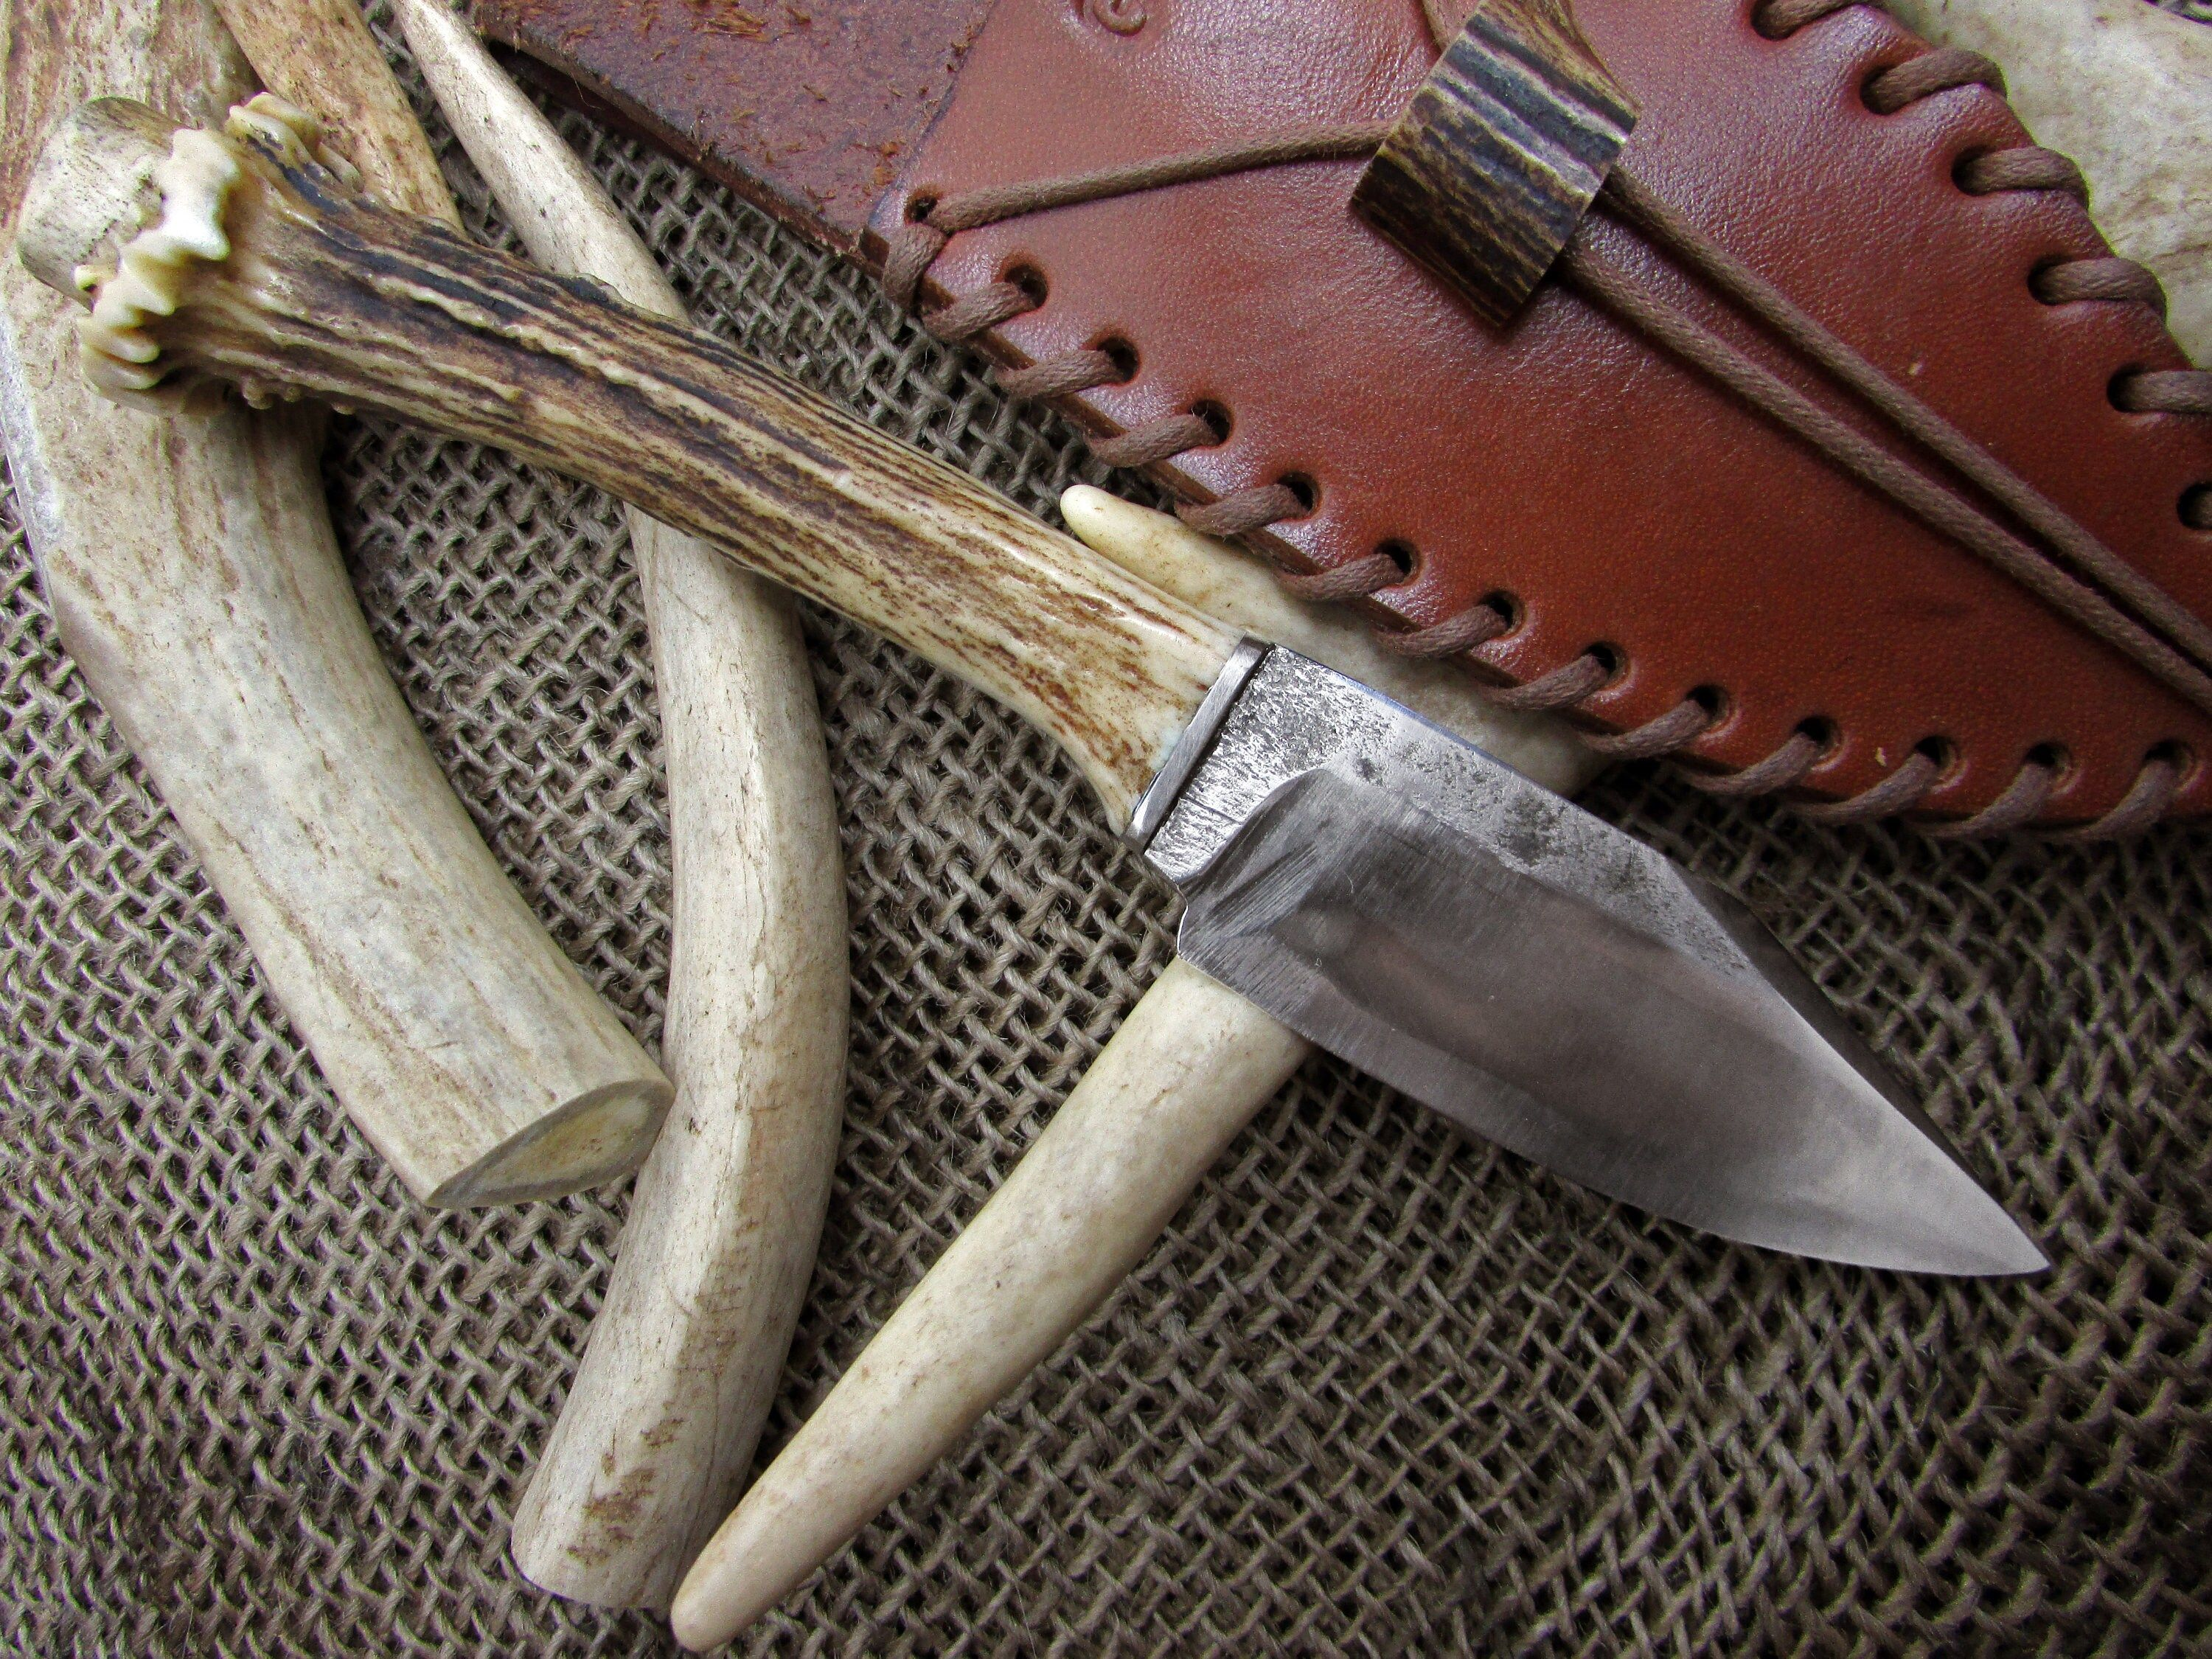knife: (14, 85, 2064, 1303)
